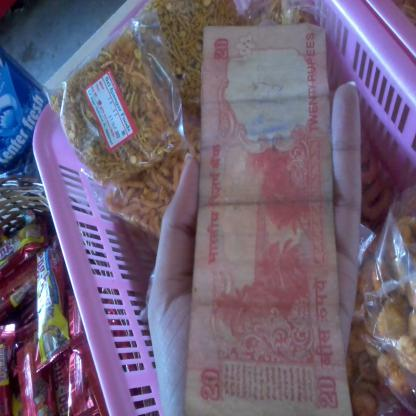Old20Back: (184, 23, 354, 416)
